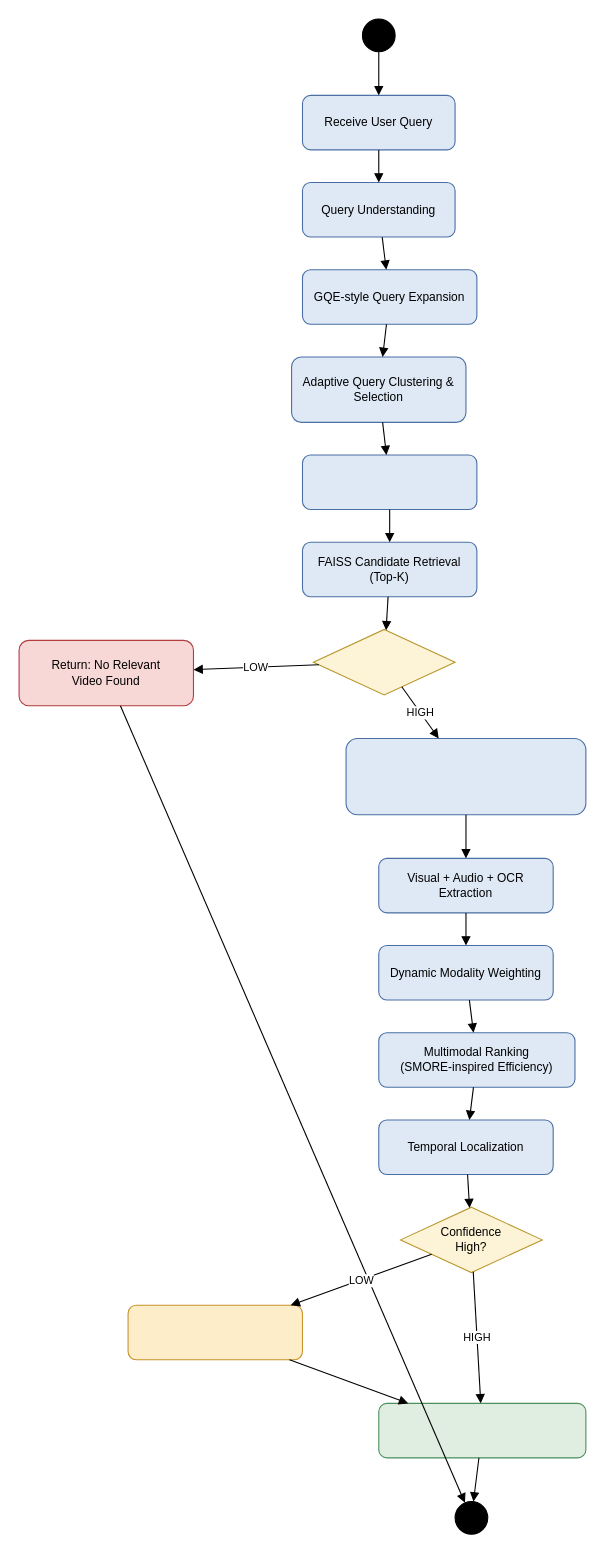
The diagram is 605 pixels wide and 1553 high, and some of its shapes have lost their labels. Here are the shapes that lost their labels. From the top down, the centre of each, then its label:
At point 389,482: "Compute Query Embeddings".
At point 383,661: "Answerable?".
At point 465,776: "Query-aware Evidence Selection (Relevance + Diversity + Temporal Coverage)".
At point 214,1332: "Deep Refinement (ConfDiff-inspired)".
At point 482,1430: "Return Video + Timestamp + Evidence".
